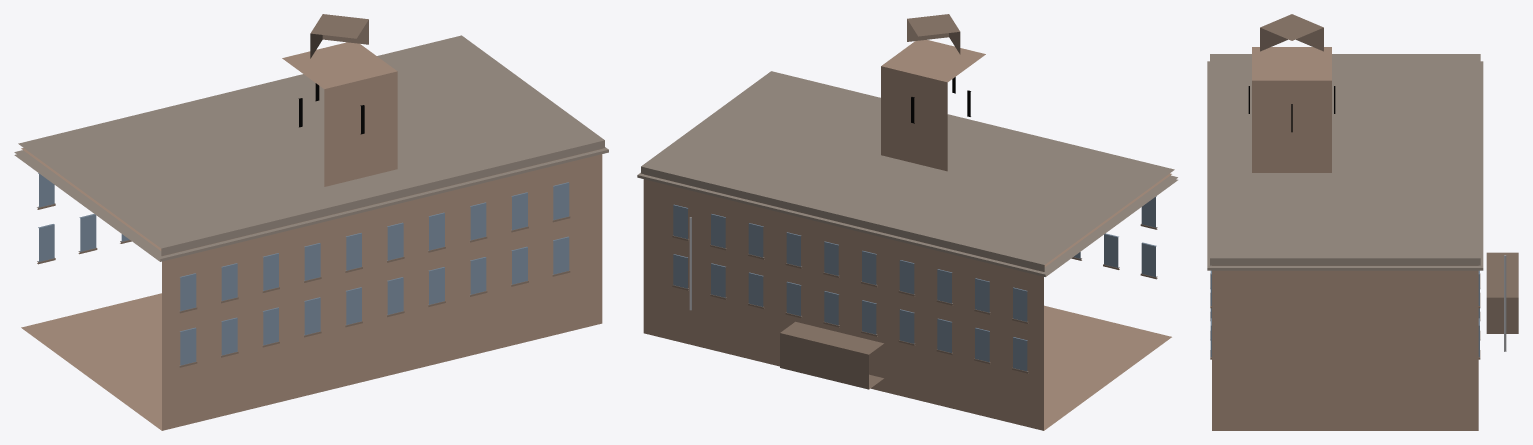
File: school_public.glb
The picture shows the model from 3 angles, left to right: view 1: azimuth 30°, elevation 25°; view 2: azimuth 150°, elevation 25°; view 3: azimuth 270°, elevation 25°; orthographic projection. The views are drawn at different scales.
Visible parts, largest first — view 1: school_public; view 2: school_public; view 3: school_public.
Boxes of the visible parts, x1,y1,x2,y2 form: school_public: (14,14,608,430); school_public: (637,14,1177,430); school_public: (1207,14,1518,430).
Size of the model in its own units: 36.7 by 25 by 23.35.
